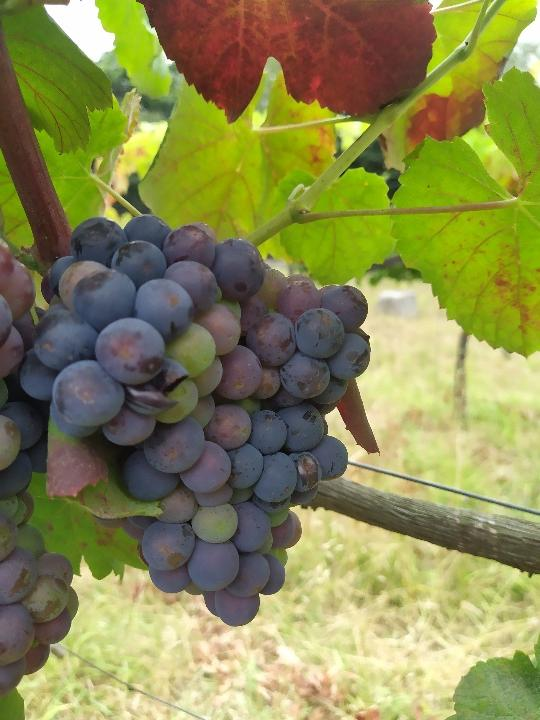grape: (13, 210, 378, 631)
